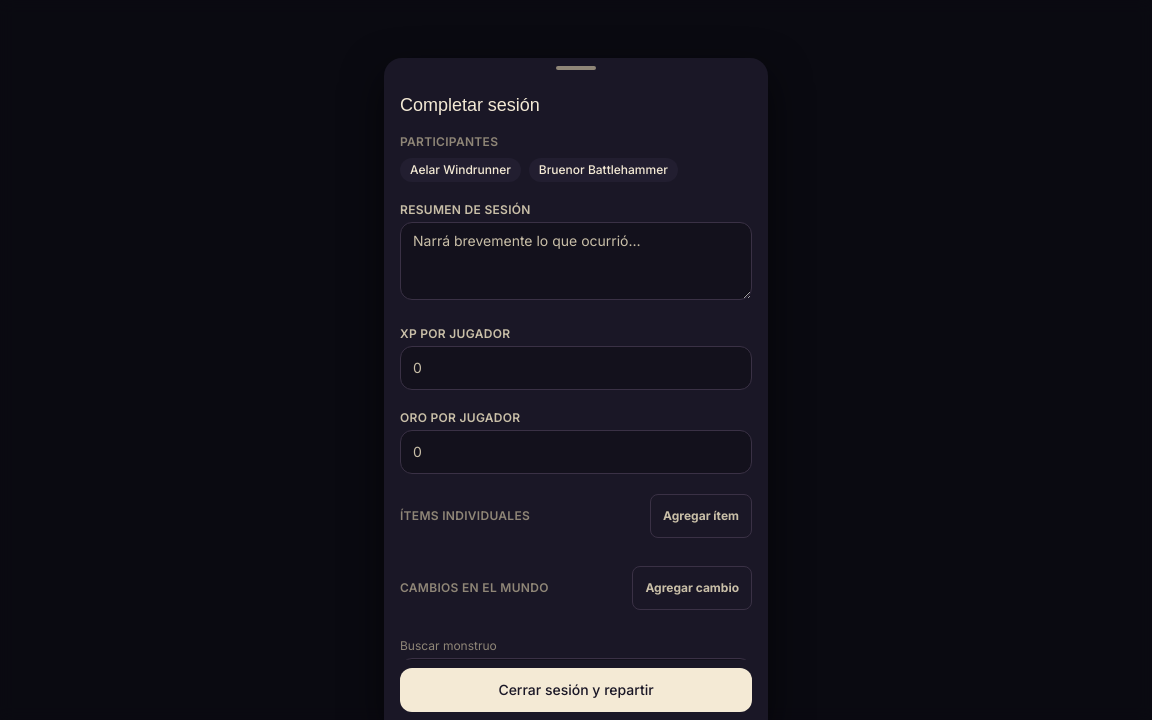
Scenario: CompleteForm › removes an item row when the remove button is clicked
Click the button "Agregar ítem".
click(701, 516)  # box [650,494,752,538]
(page scrolled)
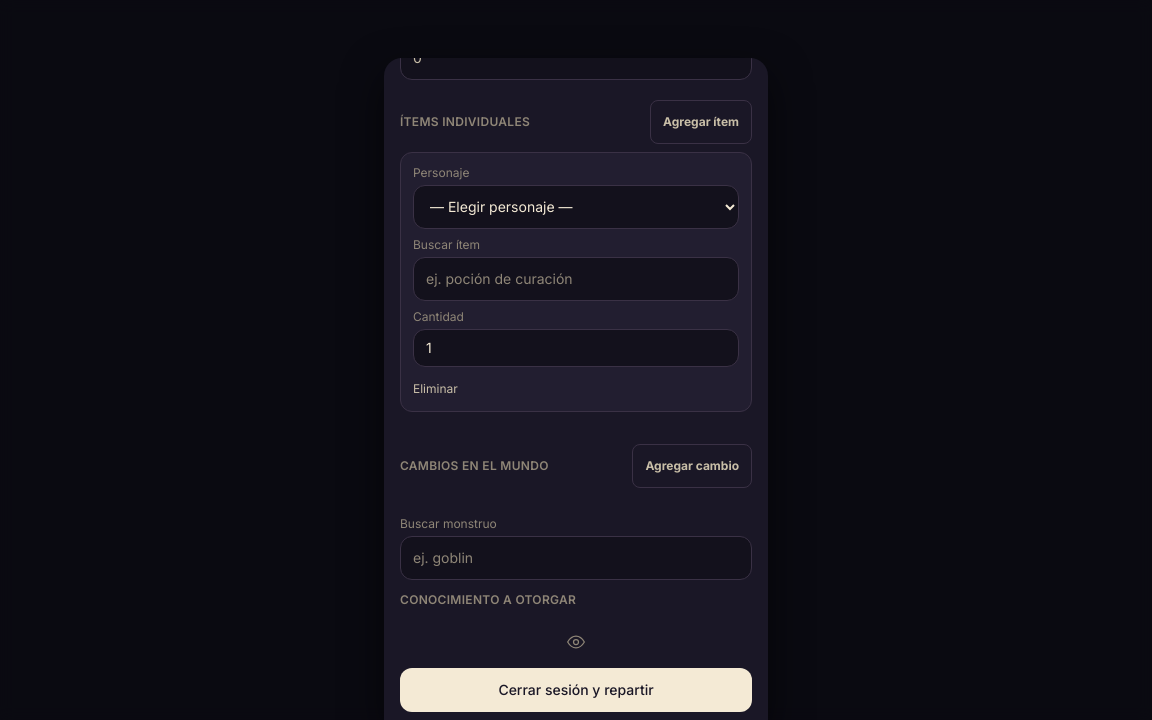
Check: the element with test id "item-row-0" is shown, box [400,152,752,412]
Click the button with aria-label "eliminar ítem 0".
click(435, 389)  # box [413,381,458,397]
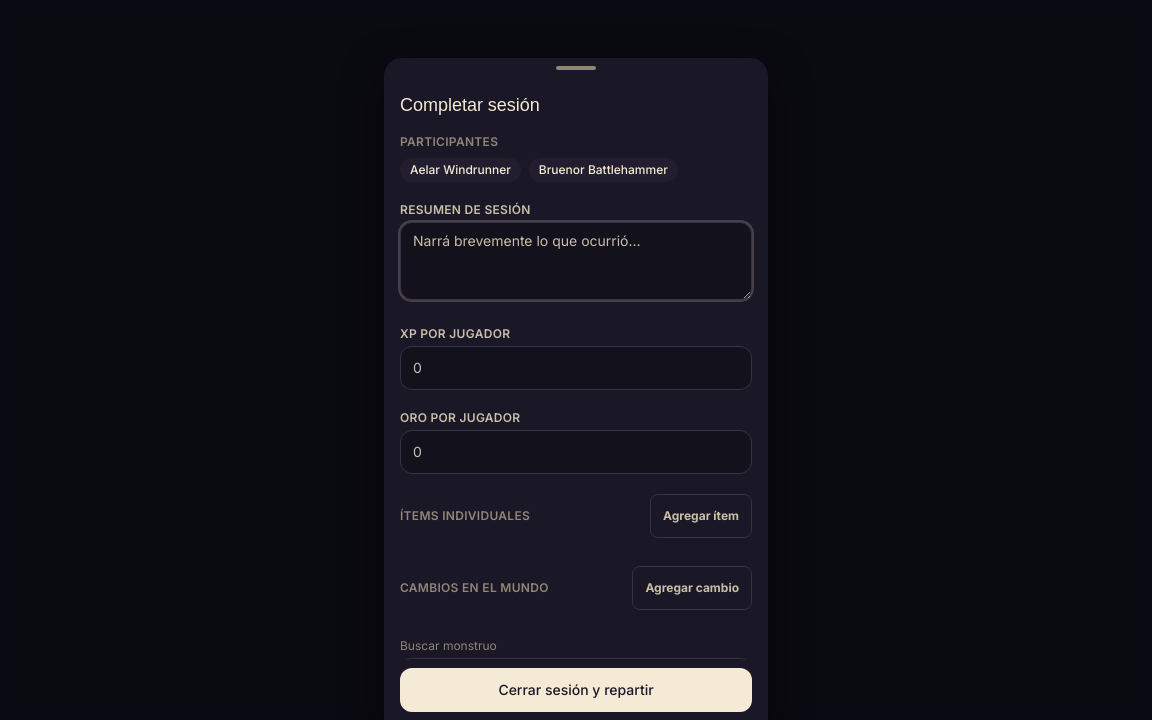
Check: the element with test id "item-row-0" is gone
